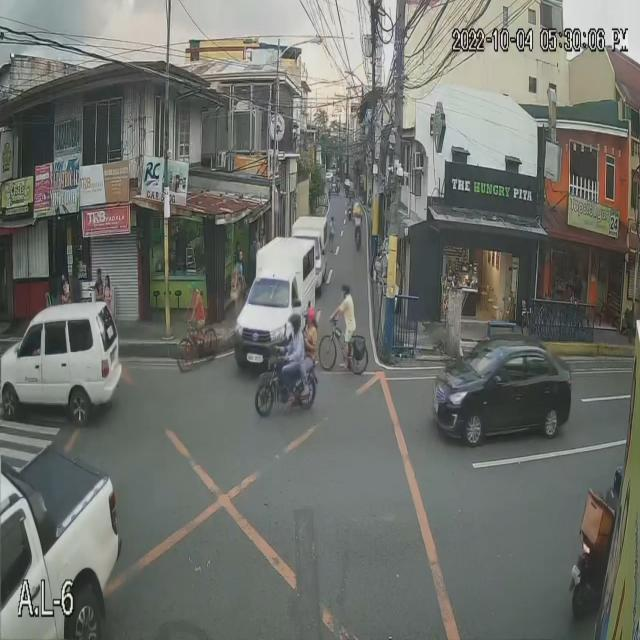half: (288, 314, 302, 335), (304, 308, 316, 324)
